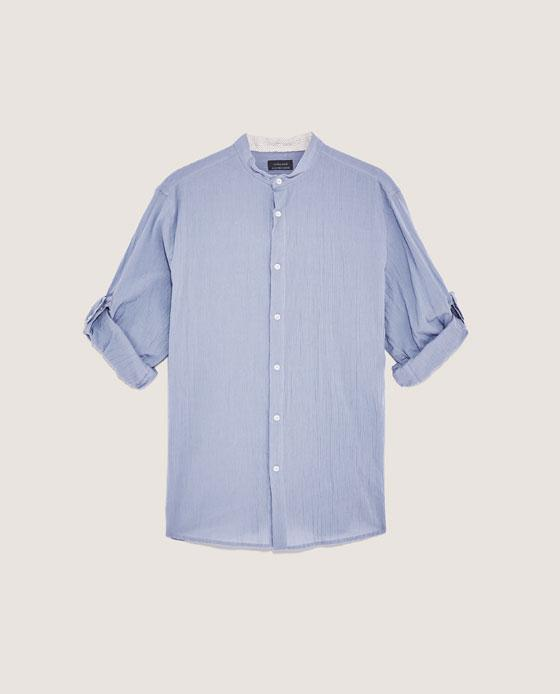teeshirt: (81, 127, 474, 574)
